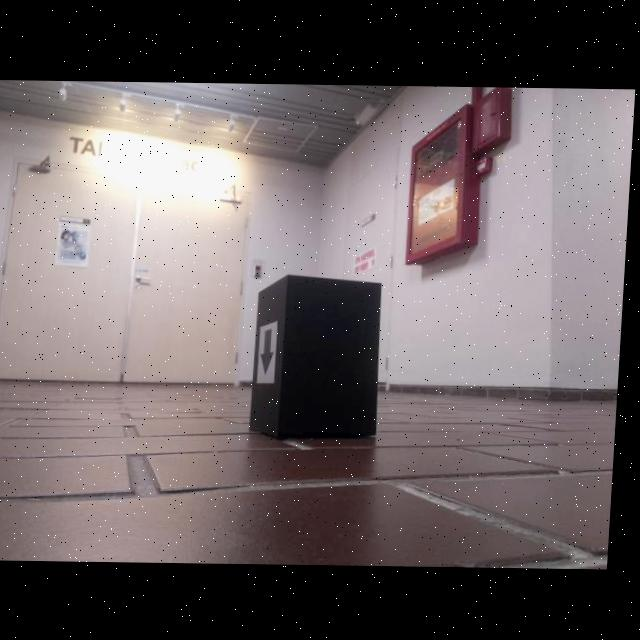DOWN: (264, 326, 280, 376)
